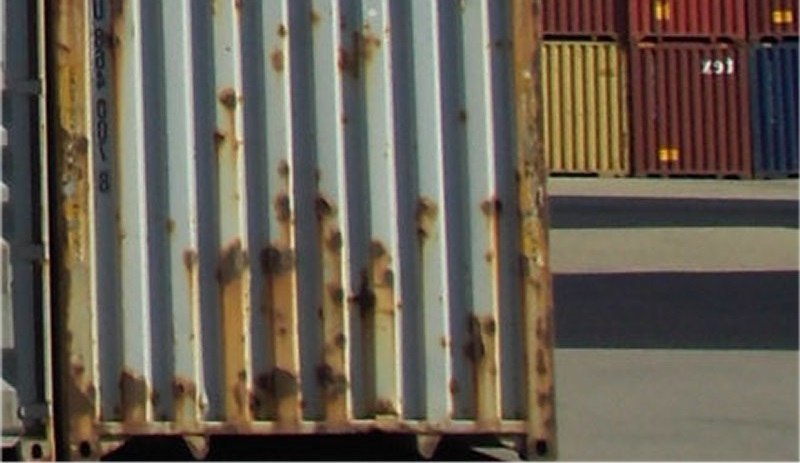container_no_door: (53, 1, 565, 444), (632, 42, 748, 175), (539, 40, 629, 174)
